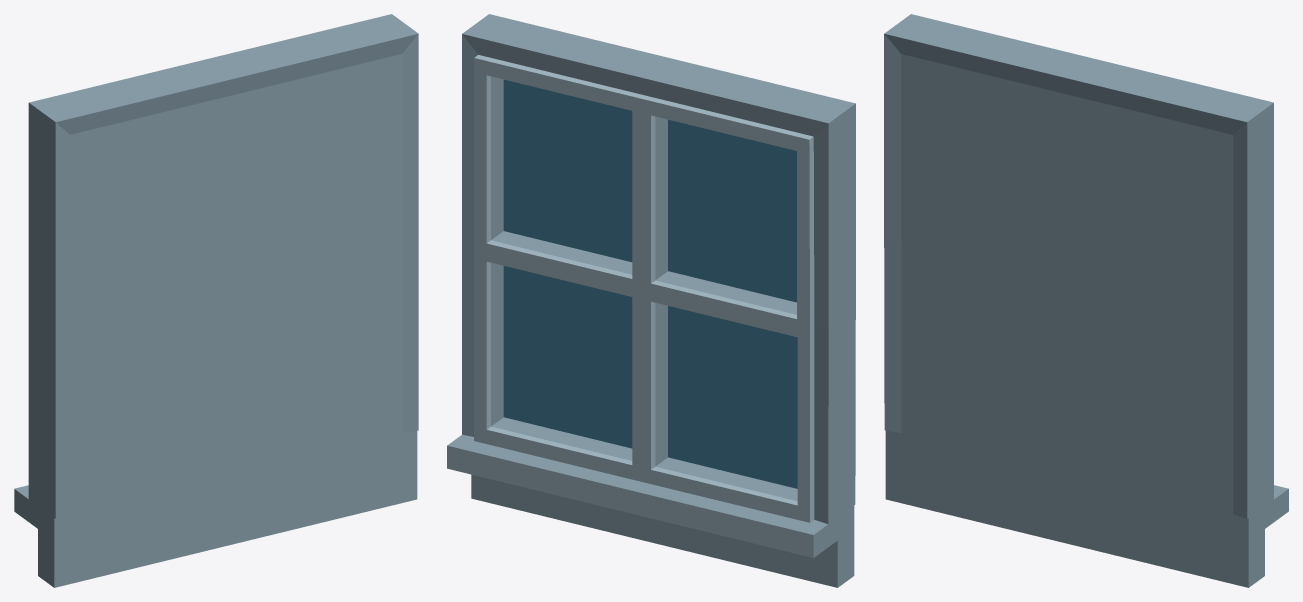
The model's file is window.fbx.
The picture shows the model from 3 angles, left to right: view 1: azimuth 30°, elevation 25°; view 2: azimuth 150°, elevation 25°; view 3: azimuth 330°, elevation 25°; orthographic projection.
Parts seen in each view (by area): view 1: Window; view 2: Window; view 3: Window.
Part boxes in pixels (x1,y1,x2,y2): Window: (14,14,418,587); Window: (447,14,855,587); Window: (884,14,1288,587).
Size of the model in its own units: 87.72 by 108 by 17.43.
